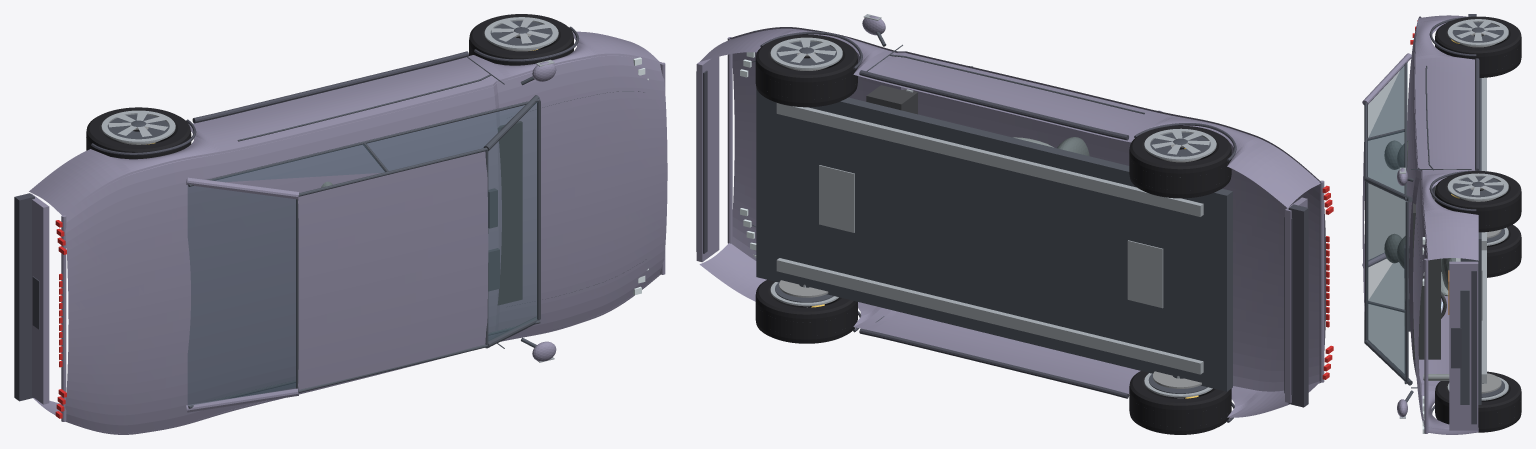
3 views of the same model, side by side, from view 1: azimuth 30°, elevation 25°; view 2: azimuth 150°, elevation 25°; view 3: azimuth 270°, elevation 25° (orthographic). The views are drawn at different scales.
Parts seen in each view (by area): view 1: body_paint, body_glass, body_windshield, body_black, body_accent, body_dash, wheel_rear_R_rubber, wheel_front_R_rubber, wheel_front_R_metal, wheel_rear_R_metal, body_red, wheel_rear_R_black (+1 smaller); view 2: body_black, body_paint, body_metal, body_accent, wheel_front_R_rubber, wheel_rear_R_rubber, wheel_rear_L_rubber, wheel_front_L_rubber, wheel_front_R_metal, wheel_rear_R_metal, body_dash, body_red (+2 smaller); view 3: body_paint, body_glass, body_windshield, body_black, body_accent, wheel_front_R_rubber, wheel_rear_R_rubber, wheel_front_L_rubber, body_dash, body_metal, body_seat, wheel_rear_L_rubber (+7 smaller).
Part boxes in pixels (x1,y1,x2,y2): body_paint: [29, 31, 667, 434]; body_glass: [188, 102, 537, 405]; body_windshield: [488, 103, 536, 341]; body_black: [188, 57, 646, 408]; body_accent: [14, 26, 579, 401]; body_dash: [497, 121, 522, 305]; wheel_rear_R_rubber: [86, 107, 191, 159]; wheel_front_R_rubber: [469, 14, 573, 65]; wheel_front_R_metal: [484, 17, 558, 49]; wheel_rear_R_metal: [101, 110, 175, 143]; body_red: [55, 220, 66, 418]; wheel_rear_R_black: [107, 114, 169, 139]; body_black: [751, 32, 1232, 391]; body_paint: [696, 15, 1326, 417]; body_metal: [776, 14, 1203, 378]; body_accent: [696, 31, 1308, 422]; wheel_front_R_rubber: [755, 34, 857, 107]; wheel_rear_R_rubber: [1129, 125, 1231, 198]; wheel_rear_L_rubber: [1129, 371, 1231, 434]; wheel_front_L_rubber: [755, 279, 857, 343]; wheel_front_R_metal: [770, 37, 842, 69]; wheel_rear_R_metal: [1144, 128, 1216, 160]; body_dash: [866, 85, 917, 114]; body_red: [1322, 185, 1333, 379]; body_paint: [1362, 15, 1478, 434]; body_glass: [1367, 62, 1407, 380]; body_windshield: [1367, 183, 1405, 378]; body_black: [1364, 62, 1481, 404]; body_accent: [1429, 14, 1479, 424]; wheel_front_R_rubber: [1435, 171, 1521, 232]; wheel_rear_R_rubber: [1435, 16, 1521, 77]; wheel_front_L_rubber: [1435, 371, 1521, 432]; body_dash: [1404, 198, 1446, 359]; body_metal: [1399, 77, 1486, 418]; body_seat: [1384, 140, 1455, 290]; wheel_rear_L_rubber: [1487, 224, 1521, 277].
Size of the model in its own units: 4.85 by 2.22 by 1.3.
